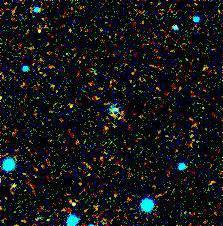star: (59, 192, 89, 222)
